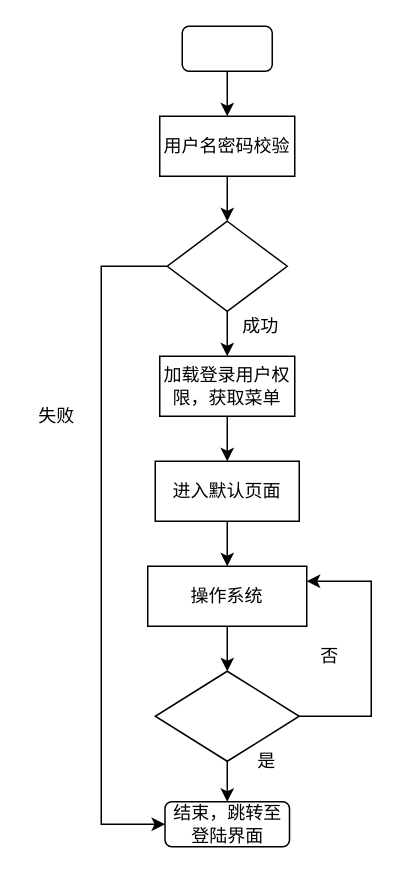
Image size: 410x873. Some labels were removed from this diagram. The shapes that lost their labels are listed below. From the top down, each one's box as (x1, y1, x2, y2) in pixels, then its label:
(181, 25, 272, 71): 用户登陆
(166, 220, 287, 311): 校验结果
(154, 670, 299, 761): 是否退出
